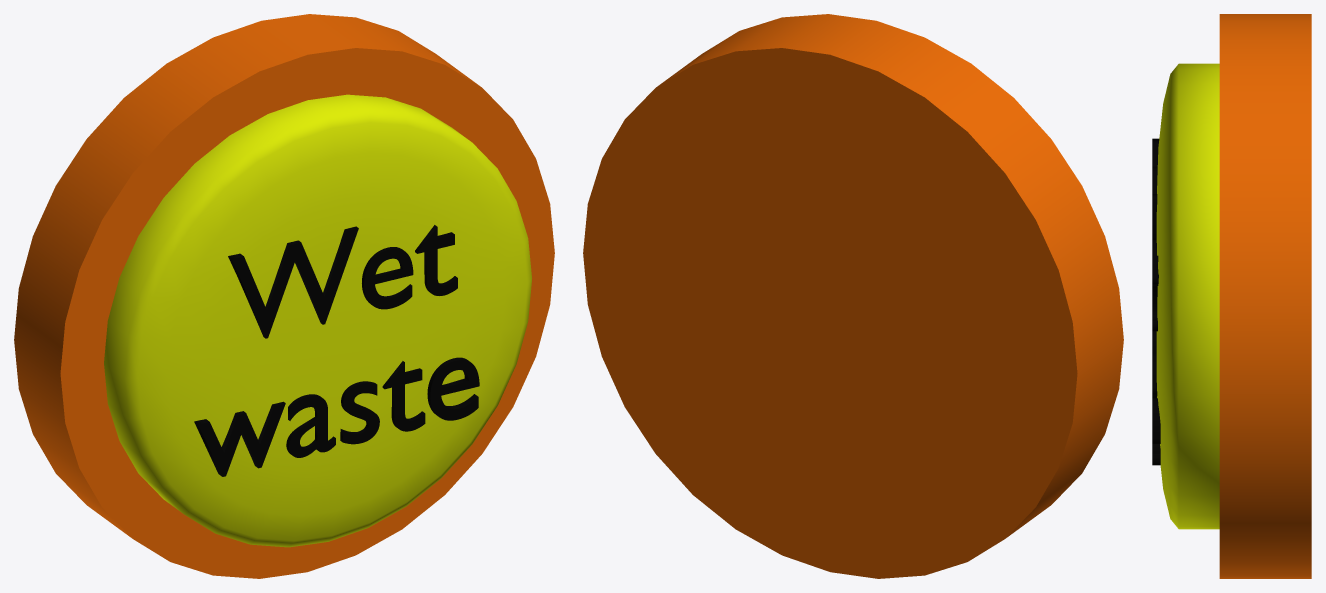
Rendered from wet button.gltf.
The picture shows the model from 3 angles, left to right: view 1: azimuth 30°, elevation 25°; view 2: azimuth 150°, elevation 25°; view 3: azimuth 270°, elevation 25°; orthographic projection.
Parts seen in each view (by area): view 1: Cylinder, Text; view 2: Cylinder; view 3: Cylinder, Text.
Part boxes in pixels (x1,y1,x2,y2): Cylinder: (14,14,554,578); Text: (194,225,479,476); Cylinder: (583,14,1123,578); Cylinder: (1156,14,1311,578); Text: (1152,138,1160,465).
Size of the model in its own units: 2 by 2 by 0.5638.
